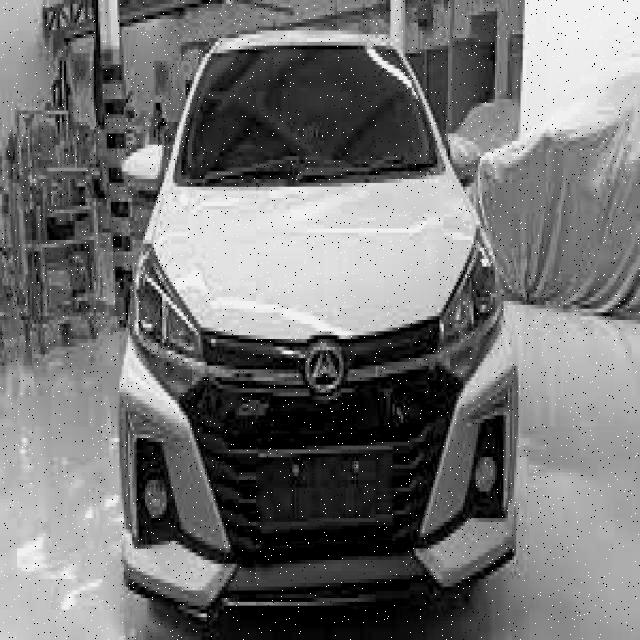Car: (103, 0, 536, 640)
